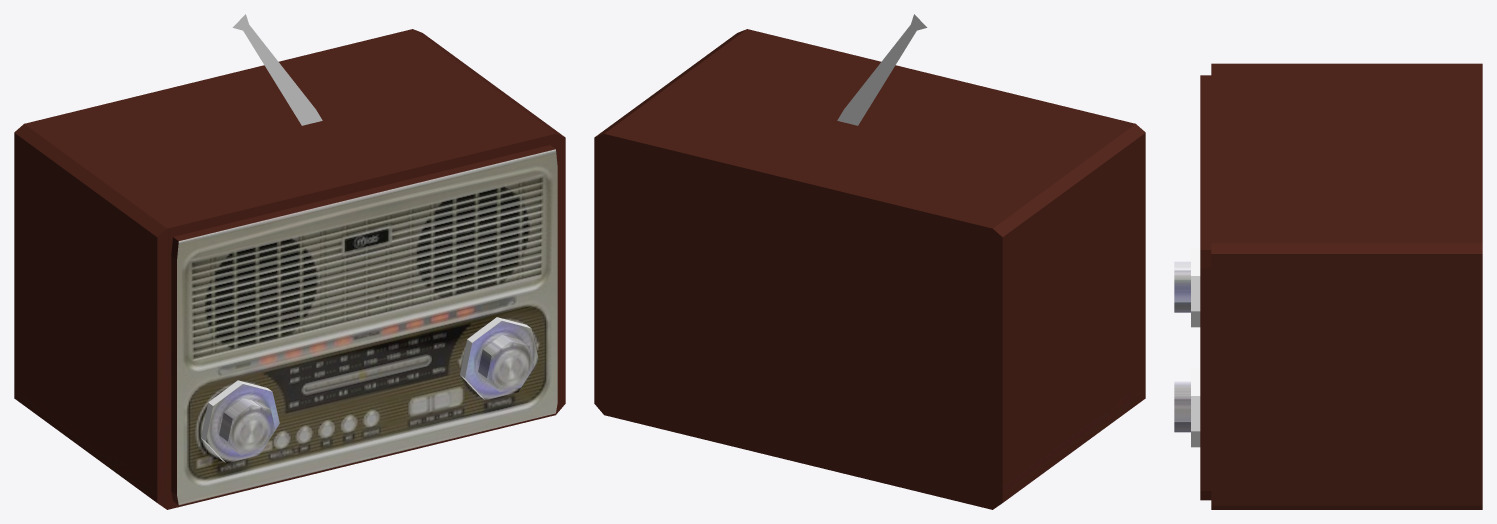
File: radio.fbx
The picture shows the model from 3 angles, left to right: view 1: azimuth 30°, elevation 25°; view 2: azimuth 150°, elevation 25°; view 3: azimuth 270°, elevation 25°; orthographic projection. The views are drawn at different scales.
Visible parts, largest first — view 1: Cube; view 2: Cube; view 3: Cube.
Boxes of the visible parts, x1,y1,x2,y2 form: Cube: [14, 14, 565, 509]; Cube: [594, 14, 1145, 509]; Cube: [1174, 63, 1482, 509].
Size of the model in its own units: 329 by 314 by 227.
